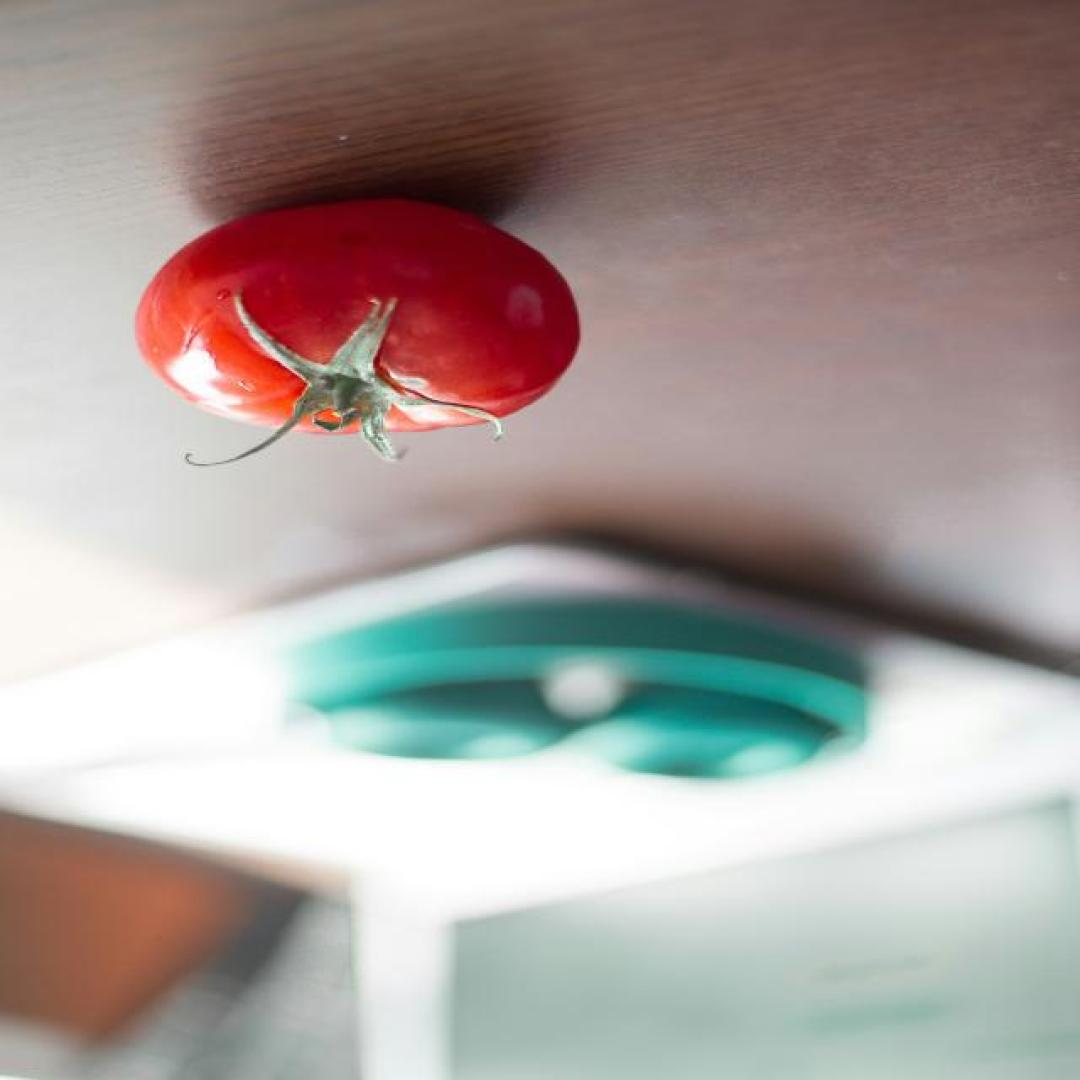matang: (135, 197, 577, 434)
